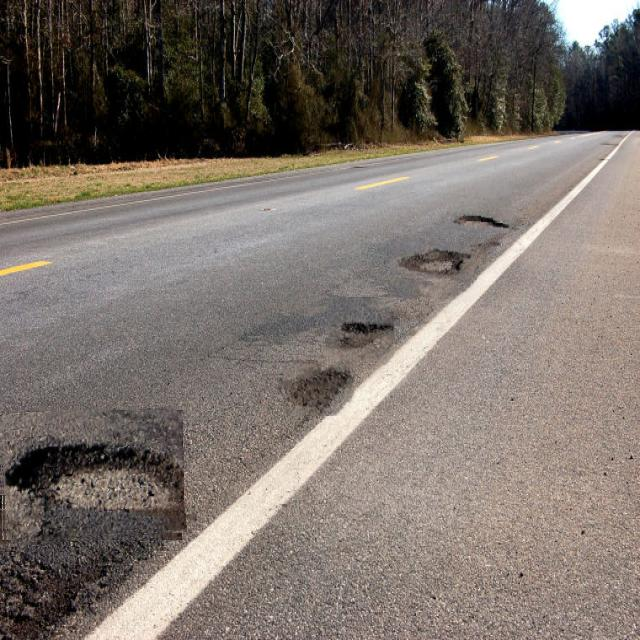Pothole: (0, 410, 184, 543), (390, 238, 478, 300), (325, 297, 394, 365), (283, 360, 356, 416), (447, 181, 512, 233)
